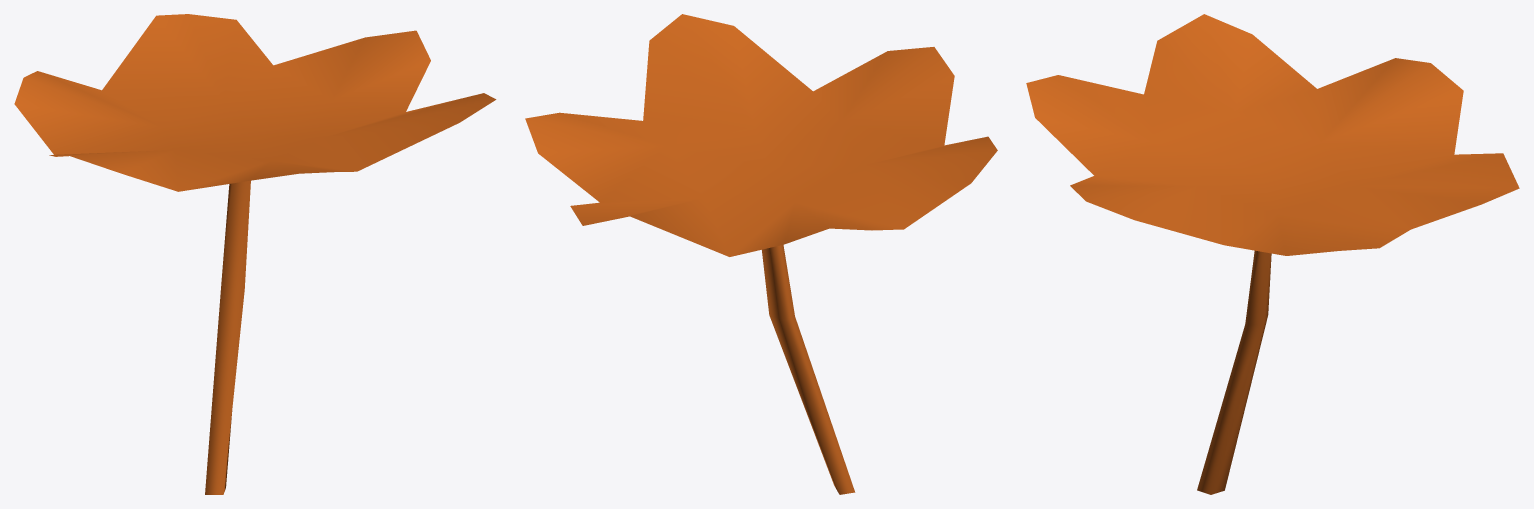
The model's file is Grass Blade Bark 4 WHITE FLOWERS.fbx.
The picture shows the model from 3 angles, left to right: view 1: azimuth 30°, elevation 25°; view 2: azimuth 150°, elevation 25°; view 3: azimuth 270°, elevation 25°; orthographic projection. The views are drawn at different scales.
Parts seen in each view (by area): view 1: flowers MINE 3; view 2: flowers MINE 3; view 3: flowers MINE 3.
Boxes of the visible parts, bbox=[...] form: flowers MINE 3: bbox=[14, 14, 496, 494]; flowers MINE 3: bbox=[525, 14, 997, 494]; flowers MINE 3: bbox=[1026, 14, 1519, 494].
Size of the model in its own units: 0.7838 by 0.6959 by 0.7652.
